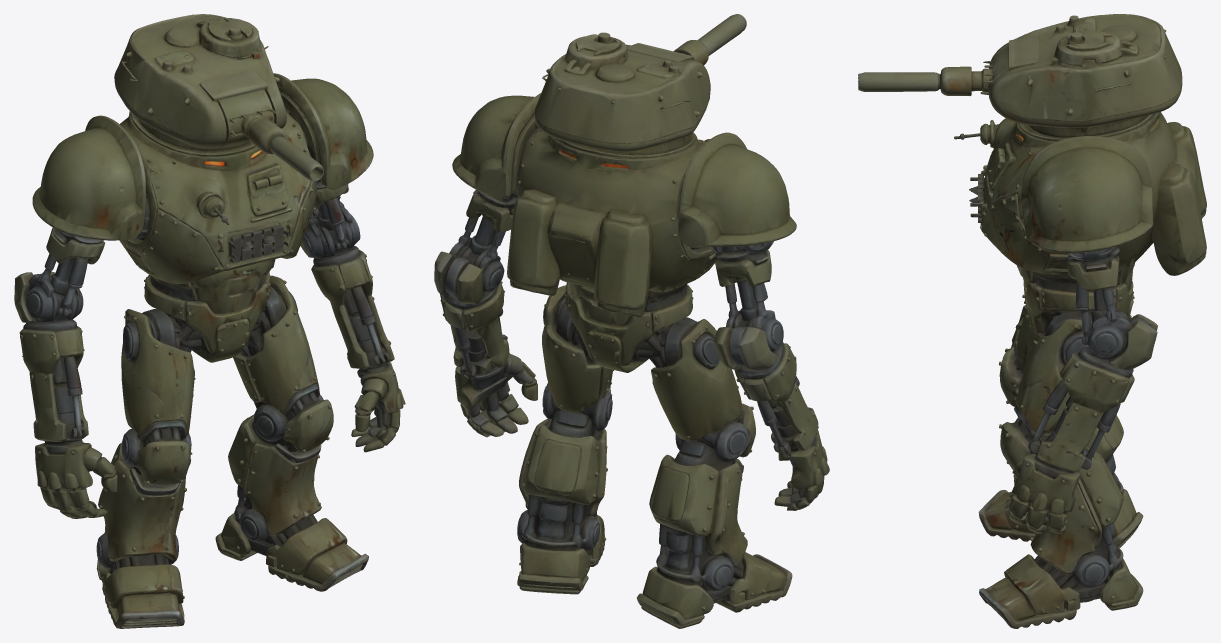
File: turret-whole.web.glb
3 renders of one model, left to right at view 1: azimuth 30°, elevation 25°; view 2: azimuth 150°, elevation 25°; view 3: azimuth 270°, elevation 25°, orthographic.
Visible parts, largest first — view 1: model; view 2: model; view 3: model.
Boxes of the visible parts, box(x1,y1,x2,y2) form: model: box(14, 14, 405, 628); model: box(434, 14, 829, 628); model: box(858, 14, 1206, 628).
Bounding box in the file's own units: 1.31 × 1.89 × 1.09.
Materials: 1 (1 with a texture image).
